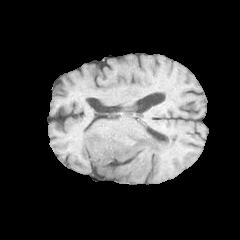glioma: (79, 128, 181, 179)
